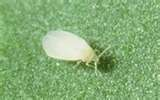whitefly: (41, 27, 110, 77)
